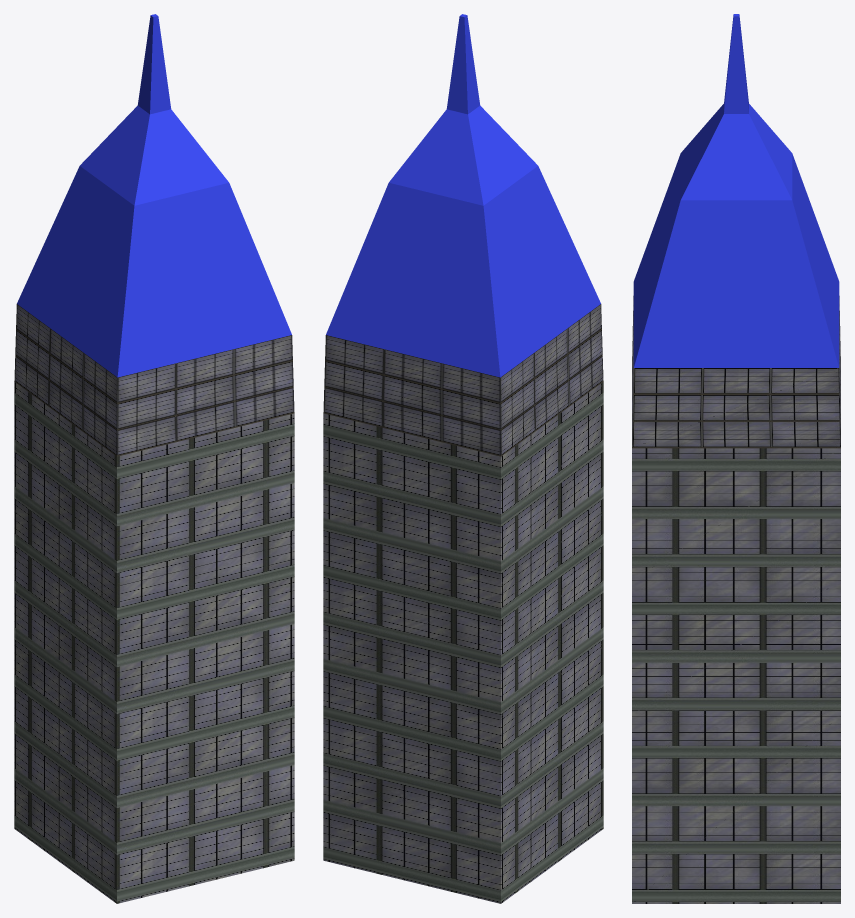
Rendered from lowPolyBuild3.gltf.
The picture shows the model from 3 angles, left to right: view 1: azimuth 30°, elevation 25°; view 2: azimuth 150°, elevation 25°; view 3: azimuth 270°, elevation 25°; orthographic projection.
Parts seen in each view (by area): view 1: Cube; view 2: Cube; view 3: Cube.
Part boxes in pixels (bbox=[...]): Cube: bbox=[14, 14, 294, 903]; Cube: bbox=[323, 14, 603, 903]; Cube: bbox=[632, 14, 840, 903].
Size of the model in its own units: 2 by 8.93 by 2.
Materials: 3 (2 with a texture image).
